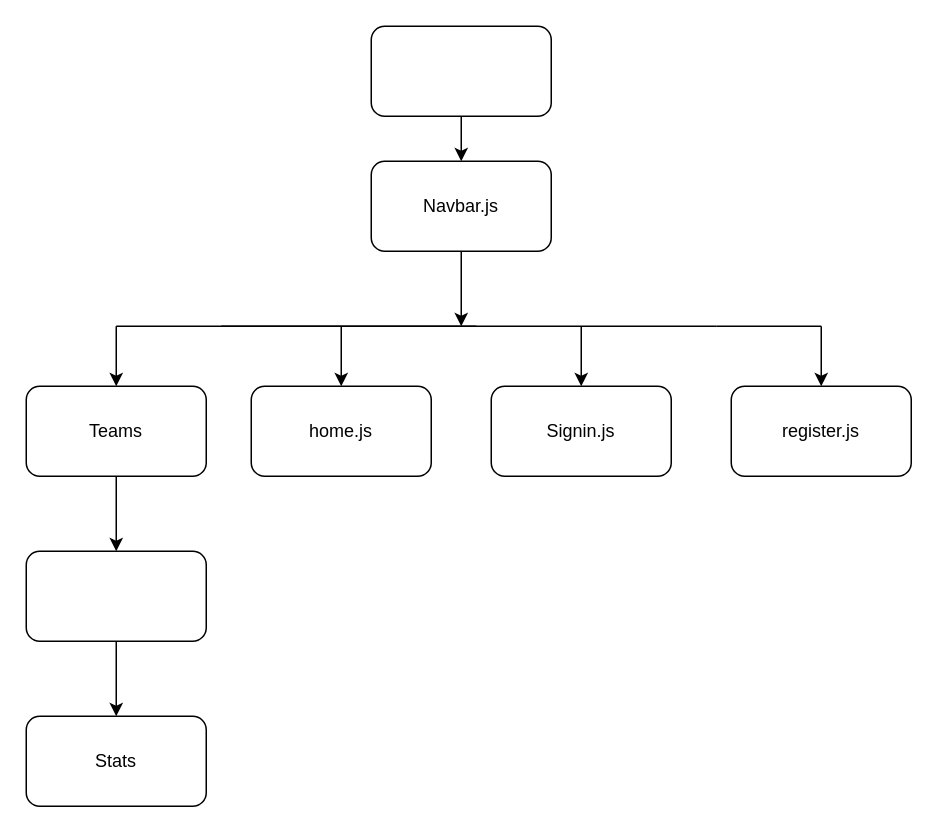
This 938x833 diagram has some shape labels left out. Here are the shapes that lost their labels. From the top down, the centre of each, then its label:
At pixel 460 70: "app.js".
At pixel 115 595: "Players".
